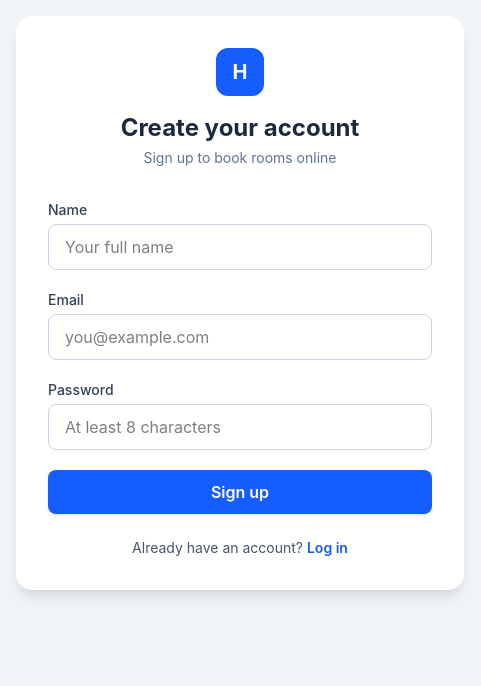
Scenario: RegisterPage › shows an error when the password is too short
Type "Test User" into the field with placeholder "Your full name".
click(240, 247); type("Test User")  # box [48, 224, 432, 270]
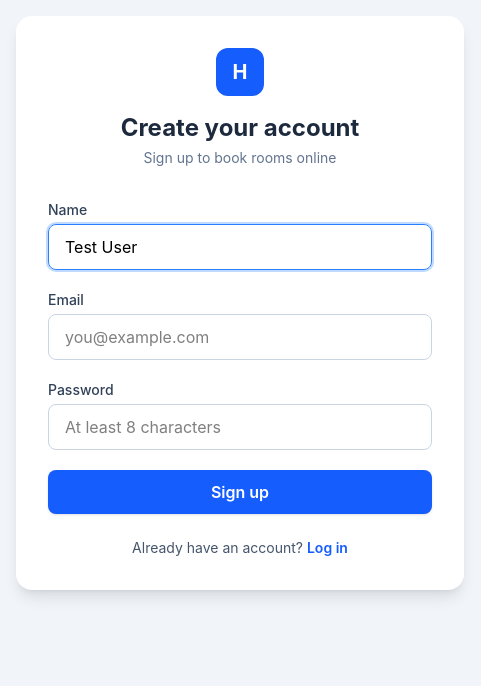
Type "test@example.com" into the field with placeholder "you@example.com".
click(240, 337); type("test@example.com")  # box [48, 314, 432, 360]
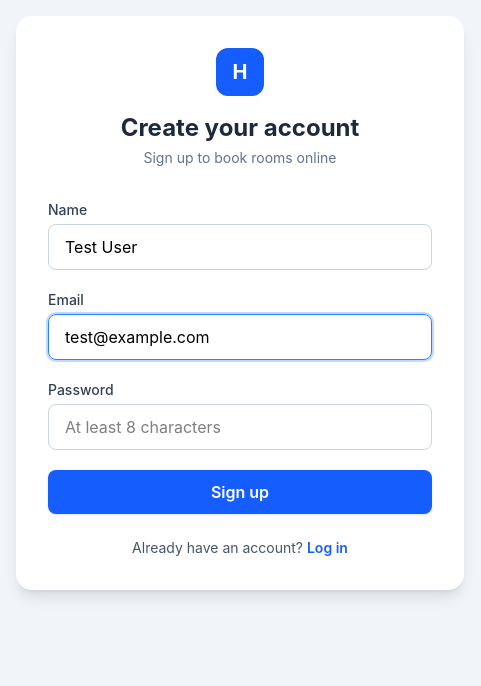
Type "short" into the password field with placeholder "At least 8 characters".
click(240, 427); type("short")  # box [48, 404, 432, 450]
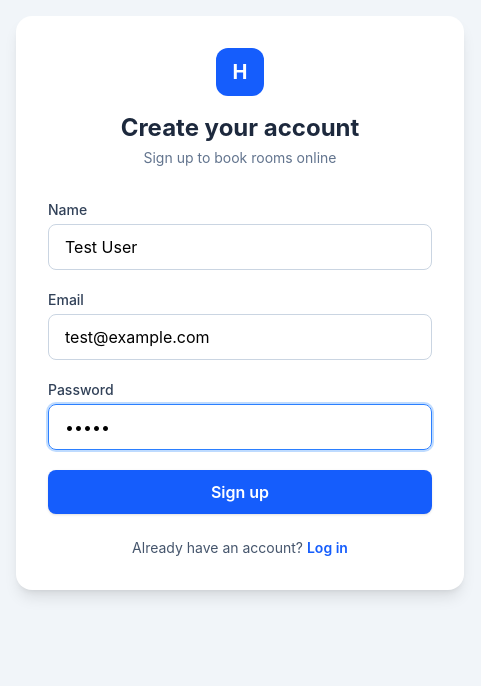
Click the button "Sign up".
click(240, 492)  # box [48, 470, 432, 514]
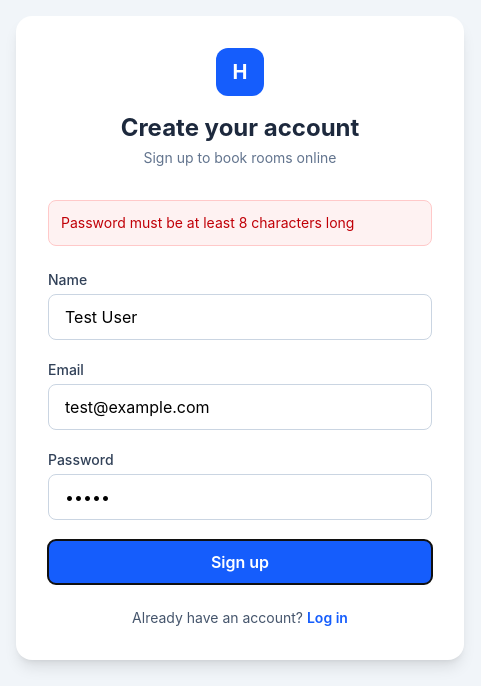
Result: the text "Password must be at least 8 characters long" is shown at [48, 200, 432, 246]
